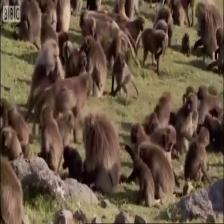monkey: (164, 120, 178, 158), (79, 8, 95, 40), (50, 46, 65, 79), (39, 103, 57, 129), (159, 25, 172, 60), (60, 36, 75, 66), (130, 119, 144, 146), (0, 125, 11, 154), (194, 0, 208, 21), (184, 92, 196, 116), (65, 109, 76, 135), (199, 123, 210, 148), (137, 11, 148, 36), (215, 24, 224, 52), (116, 52, 128, 72), (79, 50, 89, 73), (184, 29, 195, 48), (0, 96, 4, 120)
